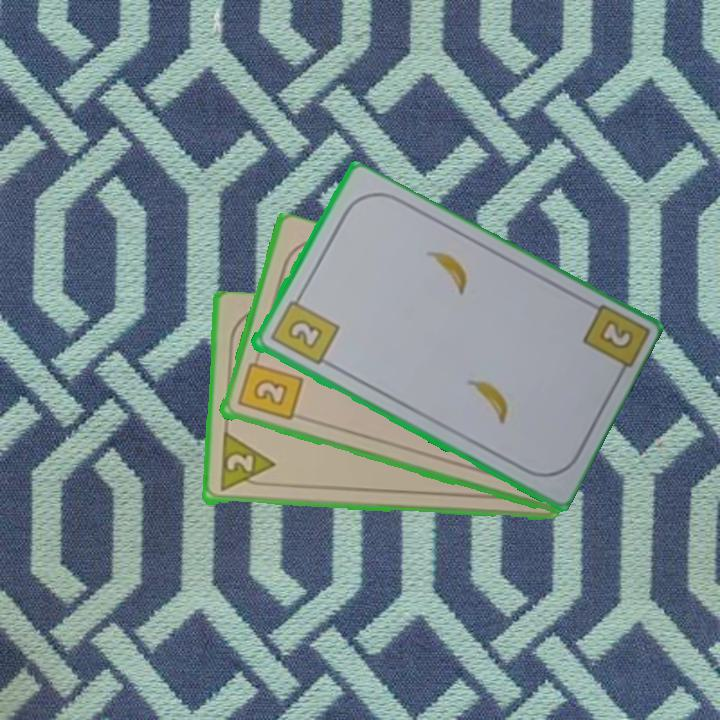2b: (266, 290, 341, 368), (234, 351, 305, 424), (598, 319, 633, 350)
2p: (216, 432, 277, 495)
